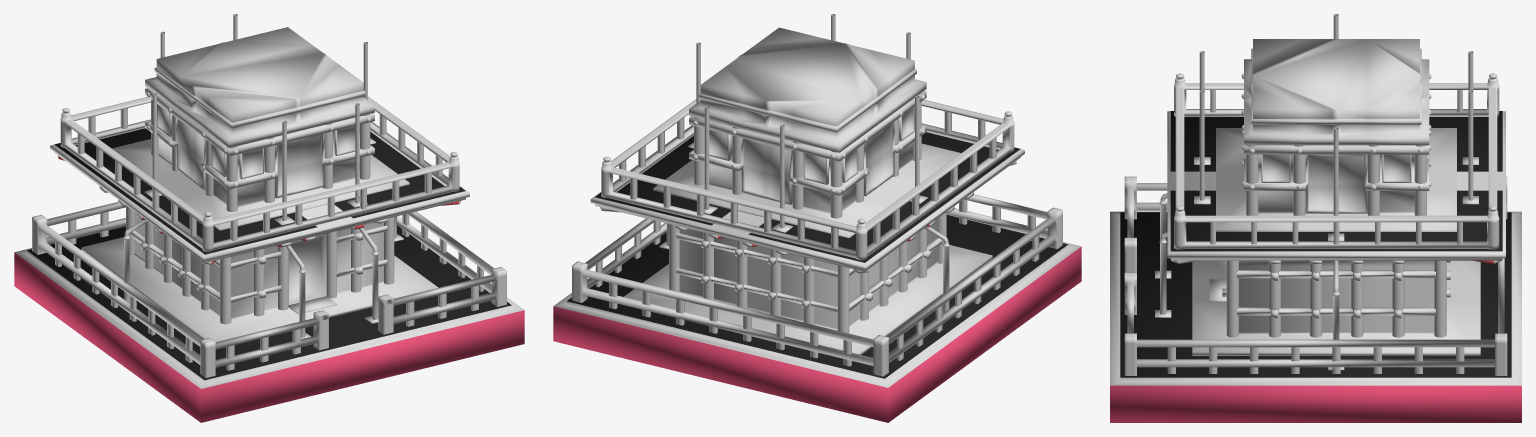
The model's file is mid.glb.
3 renders of one model, left to right at view 1: azimuth 30°, elevation 25°; view 2: azimuth 150°, elevation 25°; view 3: azimuth 270°, elevation 25°, orthographic. The views are drawn at different scales.
Parts seen in each view (by area): view 1: Japanese_Shrine; view 2: Japanese_Shrine; view 3: Japanese_Shrine.
Part boxes in pixels (<box>): Japanese_Shrine: <box>14,14,524,422</box>; Japanese_Shrine: <box>553,14,1081,422</box>; Japanese_Shrine: <box>1110,14,1521,422</box>.
Bounding box in the file's own units: 3 × 2.12 × 3.
